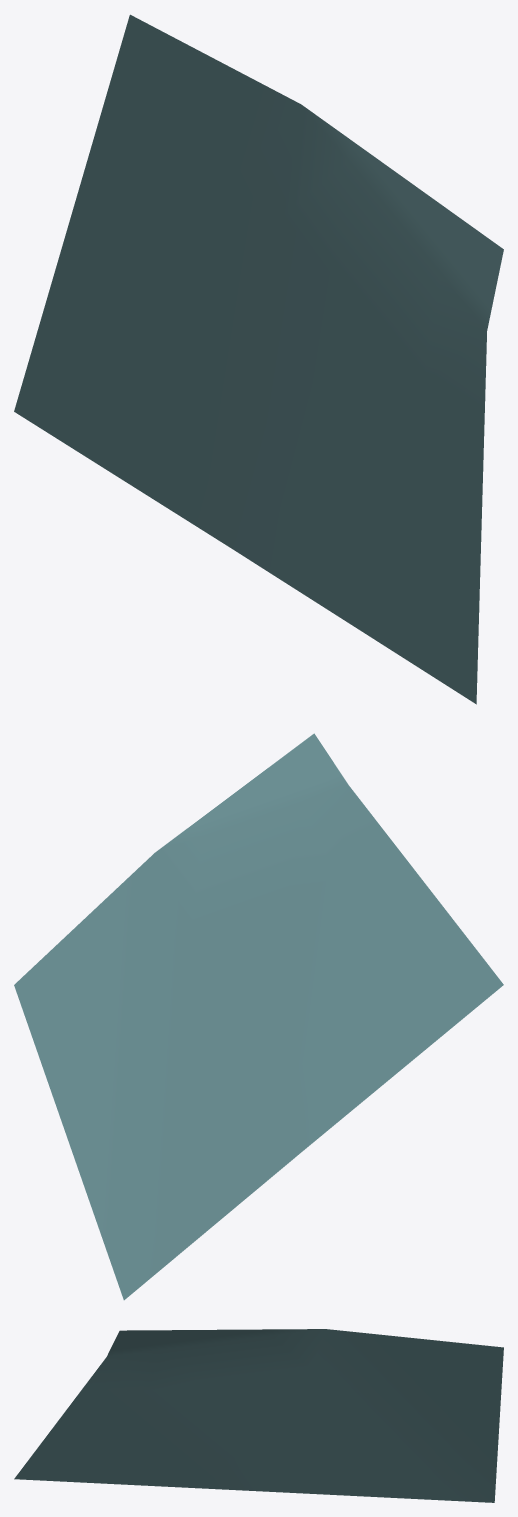
File: OldSchool_1_Door_Window_FR_Tessellate.fbx
3 views of the same model, one above another, from view 1: azimuth 30°, elevation 25°; view 2: azimuth 150°, elevation 25°; view 3: azimuth 270°, elevation 25° (orthographic). The views are drawn at different scales.
Visible parts, largest first — view 1: OldSchool_1_Door_Window_FR_Tessellate; view 2: OldSchool_1_Door_Window_FR_Tessellate; view 3: OldSchool_1_Door_Window_FR_Tessellate.
Part boxes in pixels (bbox=[...]): OldSchool_1_Door_Window_FR_Tessellate: bbox=[14, 14, 503, 704]; OldSchool_1_Door_Window_FR_Tessellate: bbox=[14, 733, 503, 1300]; OldSchool_1_Door_Window_FR_Tessellate: bbox=[14, 1329, 503, 1502].
Size of the model in its own units: 112 by 329 by 710.
